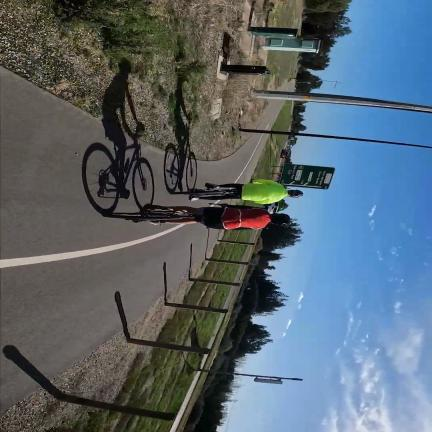Bike_Lane: (0, 69, 207, 409), (135, 135, 263, 206)
